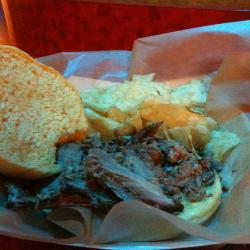bread: (1, 42, 89, 179)
